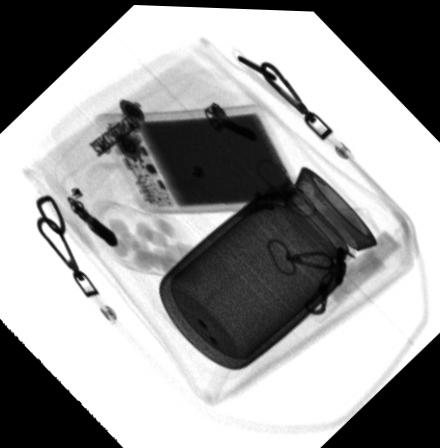Powerbank: (92, 98, 319, 214)
Scissors: (230, 150, 318, 218)
